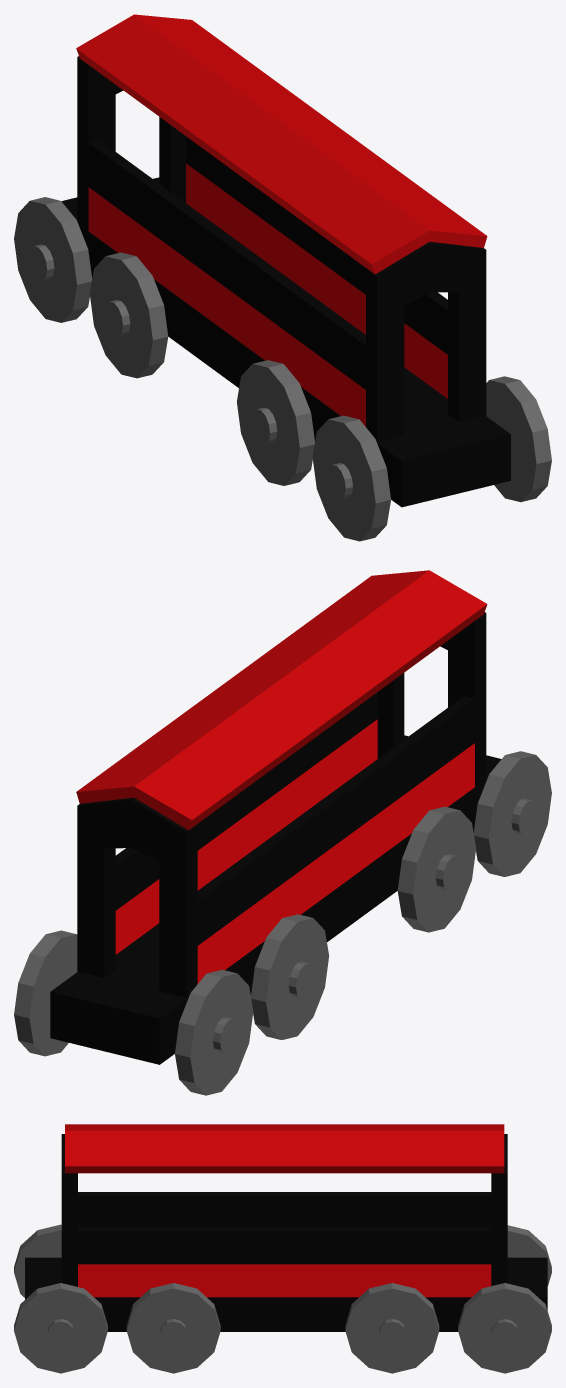
Rendered from basecar.glb.
3 views of the same model, one above another, from view 1: azimuth 30°, elevation 25°; view 2: azimuth 150°, elevation 25°; view 3: azimuth 270°, elevation 25° (orthographic). The views are drawn at different scales.
Parts seen in each view (by area): view 1: BaseCarSides, BaseCarTop, BaseCarFrontWheels, BaseCarFront, Trainbase.004, BaseCarBackWheels, BaseCarBack; view 2: BaseCarSides, BaseCarTop, BaseCarBackWheels, Trainbase.004, BaseCarBack, BaseCarFrontWheels, BaseCarFront; view 3: BaseCarSides, BaseCarTop, BaseCarFrontWheels, BaseCarBackWheels, Trainbase.004, BaseCarFront, BaseCarBack.
Boxes of the visible parts, box(x1,y1,x2,y2) form: BaseCarSides: box(88, 136, 447, 426); BaseCarTop: box(76, 14, 487, 274); BaseCarFrontWheels: box(237, 360, 551, 541); BaseCarFront: box(366, 241, 486, 441); Trainbase.004: box(61, 177, 510, 507); BaseCarBackWheels: box(14, 197, 168, 378); BaseCarBack: box(77, 56, 185, 230); BaseCarSides: box(115, 692, 474, 983); BaseCarTop: box(76, 570, 487, 830); BaseCarBackWheels: box(14, 914, 328, 1095); Trainbase.004: box(50, 735, 501, 1064); BaseCarBack: box(77, 797, 197, 997); BaseCarFrontWheels: box(397, 751, 551, 932); BaseCarFront: box(377, 612, 486, 786); BaseCarSides: box(78, 1192, 491, 1297); BaseCarTop: box(65, 1124, 504, 1173); BaseCarFrontWheels: box(14, 1224, 220, 1373); BaseCarBackWheels: box(345, 1225, 551, 1373); Trainbase.004: box(25, 1257, 547, 1331); BaseCarFront: box(61, 1134, 77, 1286); BaseCarBack: box(491, 1134, 507, 1285).
Size of the model in its own units: 3.49 by 4.95 by 11.46.
4 materials, 2 textured.
